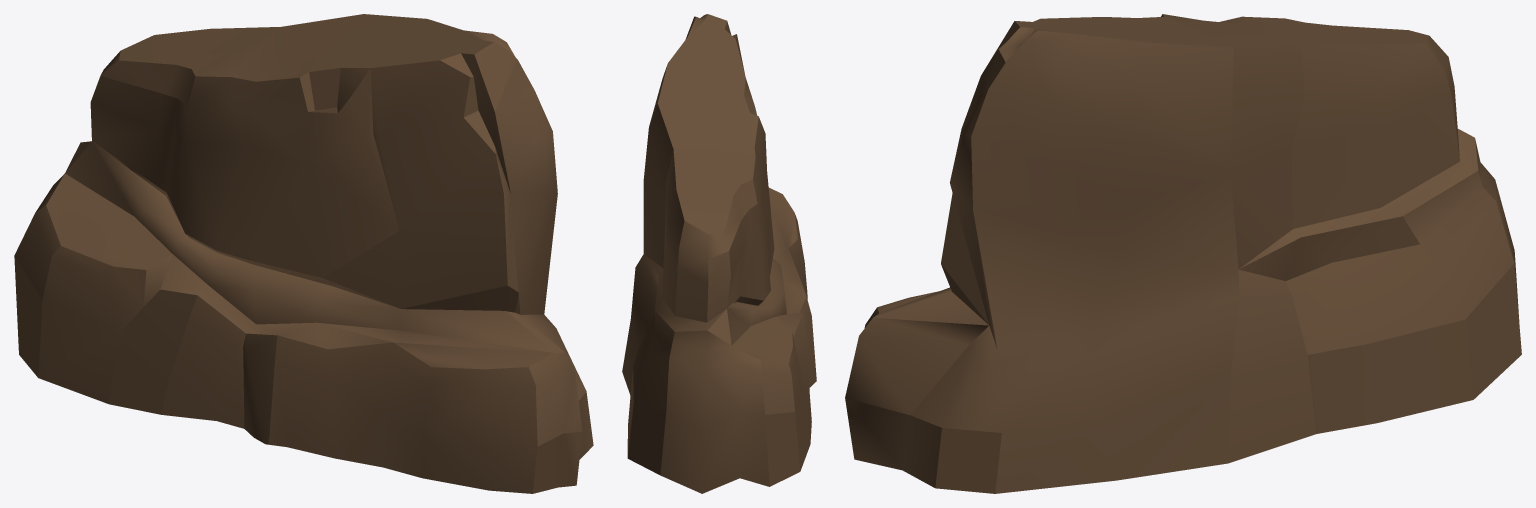
Rendered from shituo11.FBX.
3 renders of one model, left to right at view 1: azimuth 30°, elevation 25°; view 2: azimuth 150°, elevation 25°; view 3: azimuth 270°, elevation 25°, orthographic. The views are drawn at different scales.
Visible parts, largest first — view 1: c45; view 2: c45; view 3: c45.
Boxes of the visible parts, box(x1,y1,x2,y2) form: c45: box(14, 14, 593, 493); c45: box(622, 14, 816, 493); c45: box(845, 14, 1521, 493).
Bounding box in the file's own units: 3.41 × 3.57 × 5.07.
